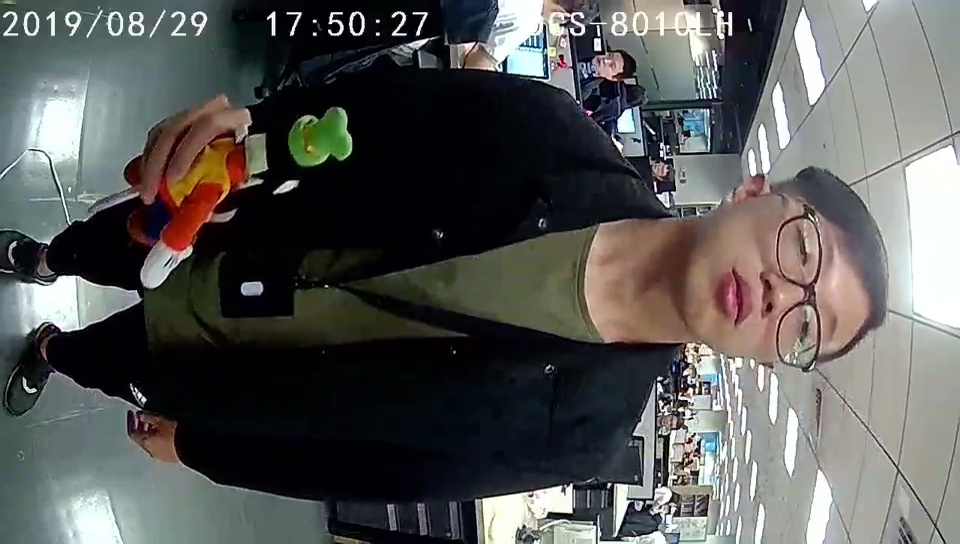goofy: (126, 102, 356, 291)
